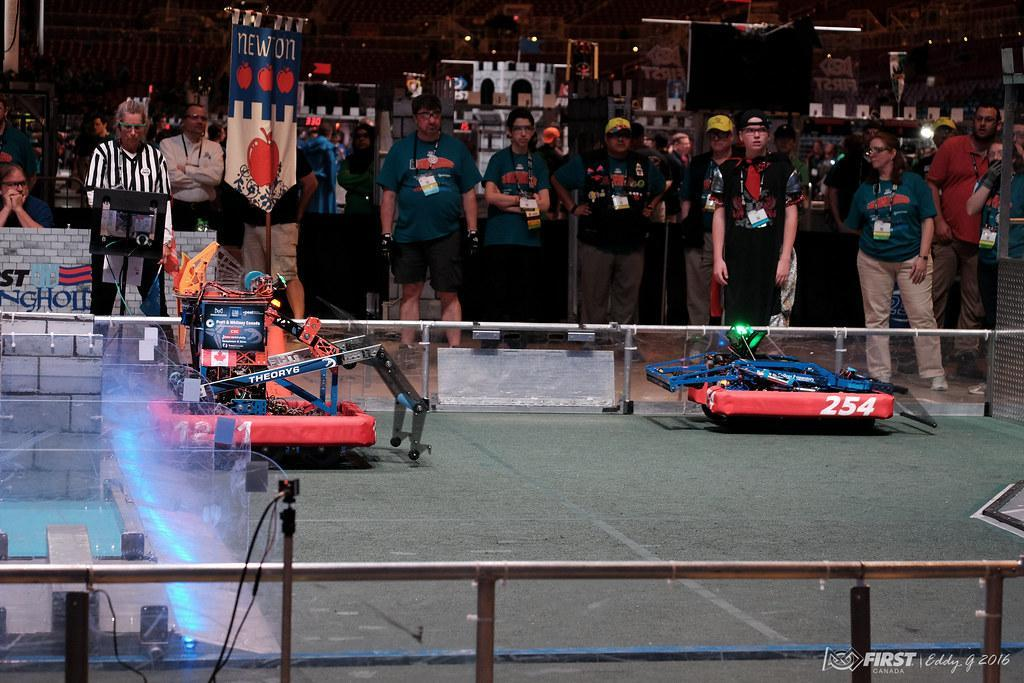robot: (133, 229, 439, 463), (643, 321, 944, 432)
